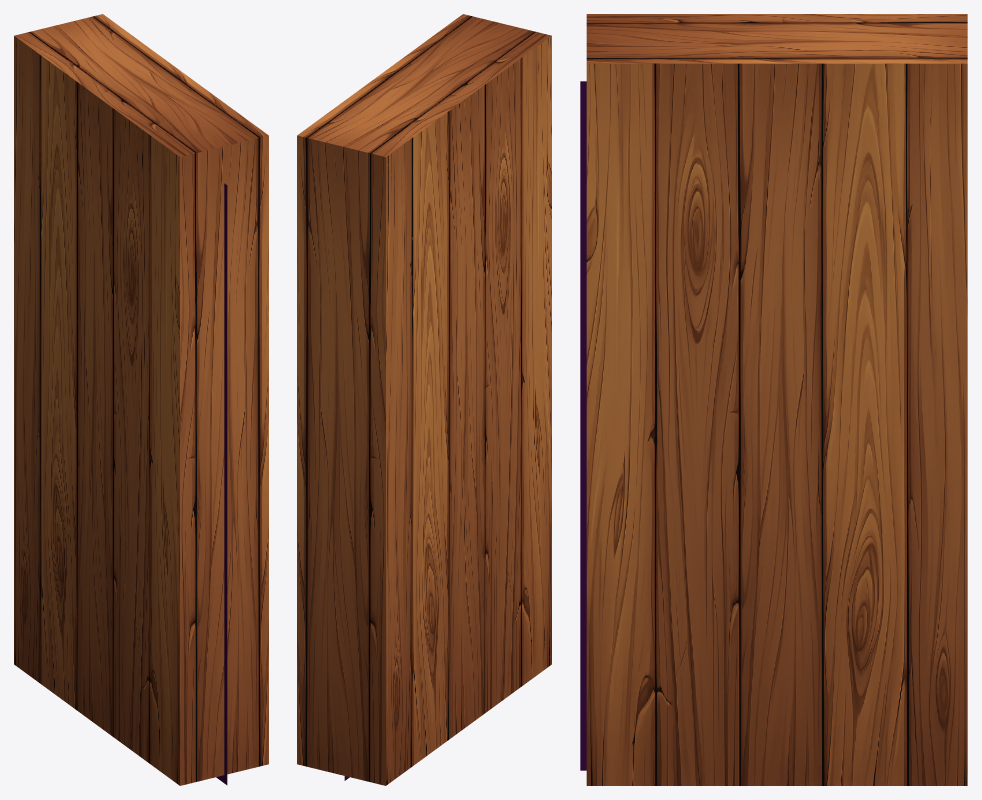
The model's file is woodWall.glb.
The picture shows the model from 3 angles, left to right: view 1: azimuth 30°, elevation 25°; view 2: azimuth 150°, elevation 25°; view 3: azimuth 270°, elevation 25°; orthographic projection. The views are drawn at different scales.
Visible parts, largest first — view 1: Cube.002, Plane; view 2: Cube.002; view 3: Cube.002, Plane.
Boxes of the visible parts, box(x1,y1,x2,y2) form: Cube.002: box(14, 14, 268, 785); Plane: box(216, 183, 227, 784); Cube.002: box(297, 14, 551, 785); Cube.002: box(586, 14, 967, 785); Plane: box(580, 81, 586, 770).
Size of the model in its own units: 0.0887 by 0.608 by 0.2917.
Materials: 2 (1 with a texture image).
